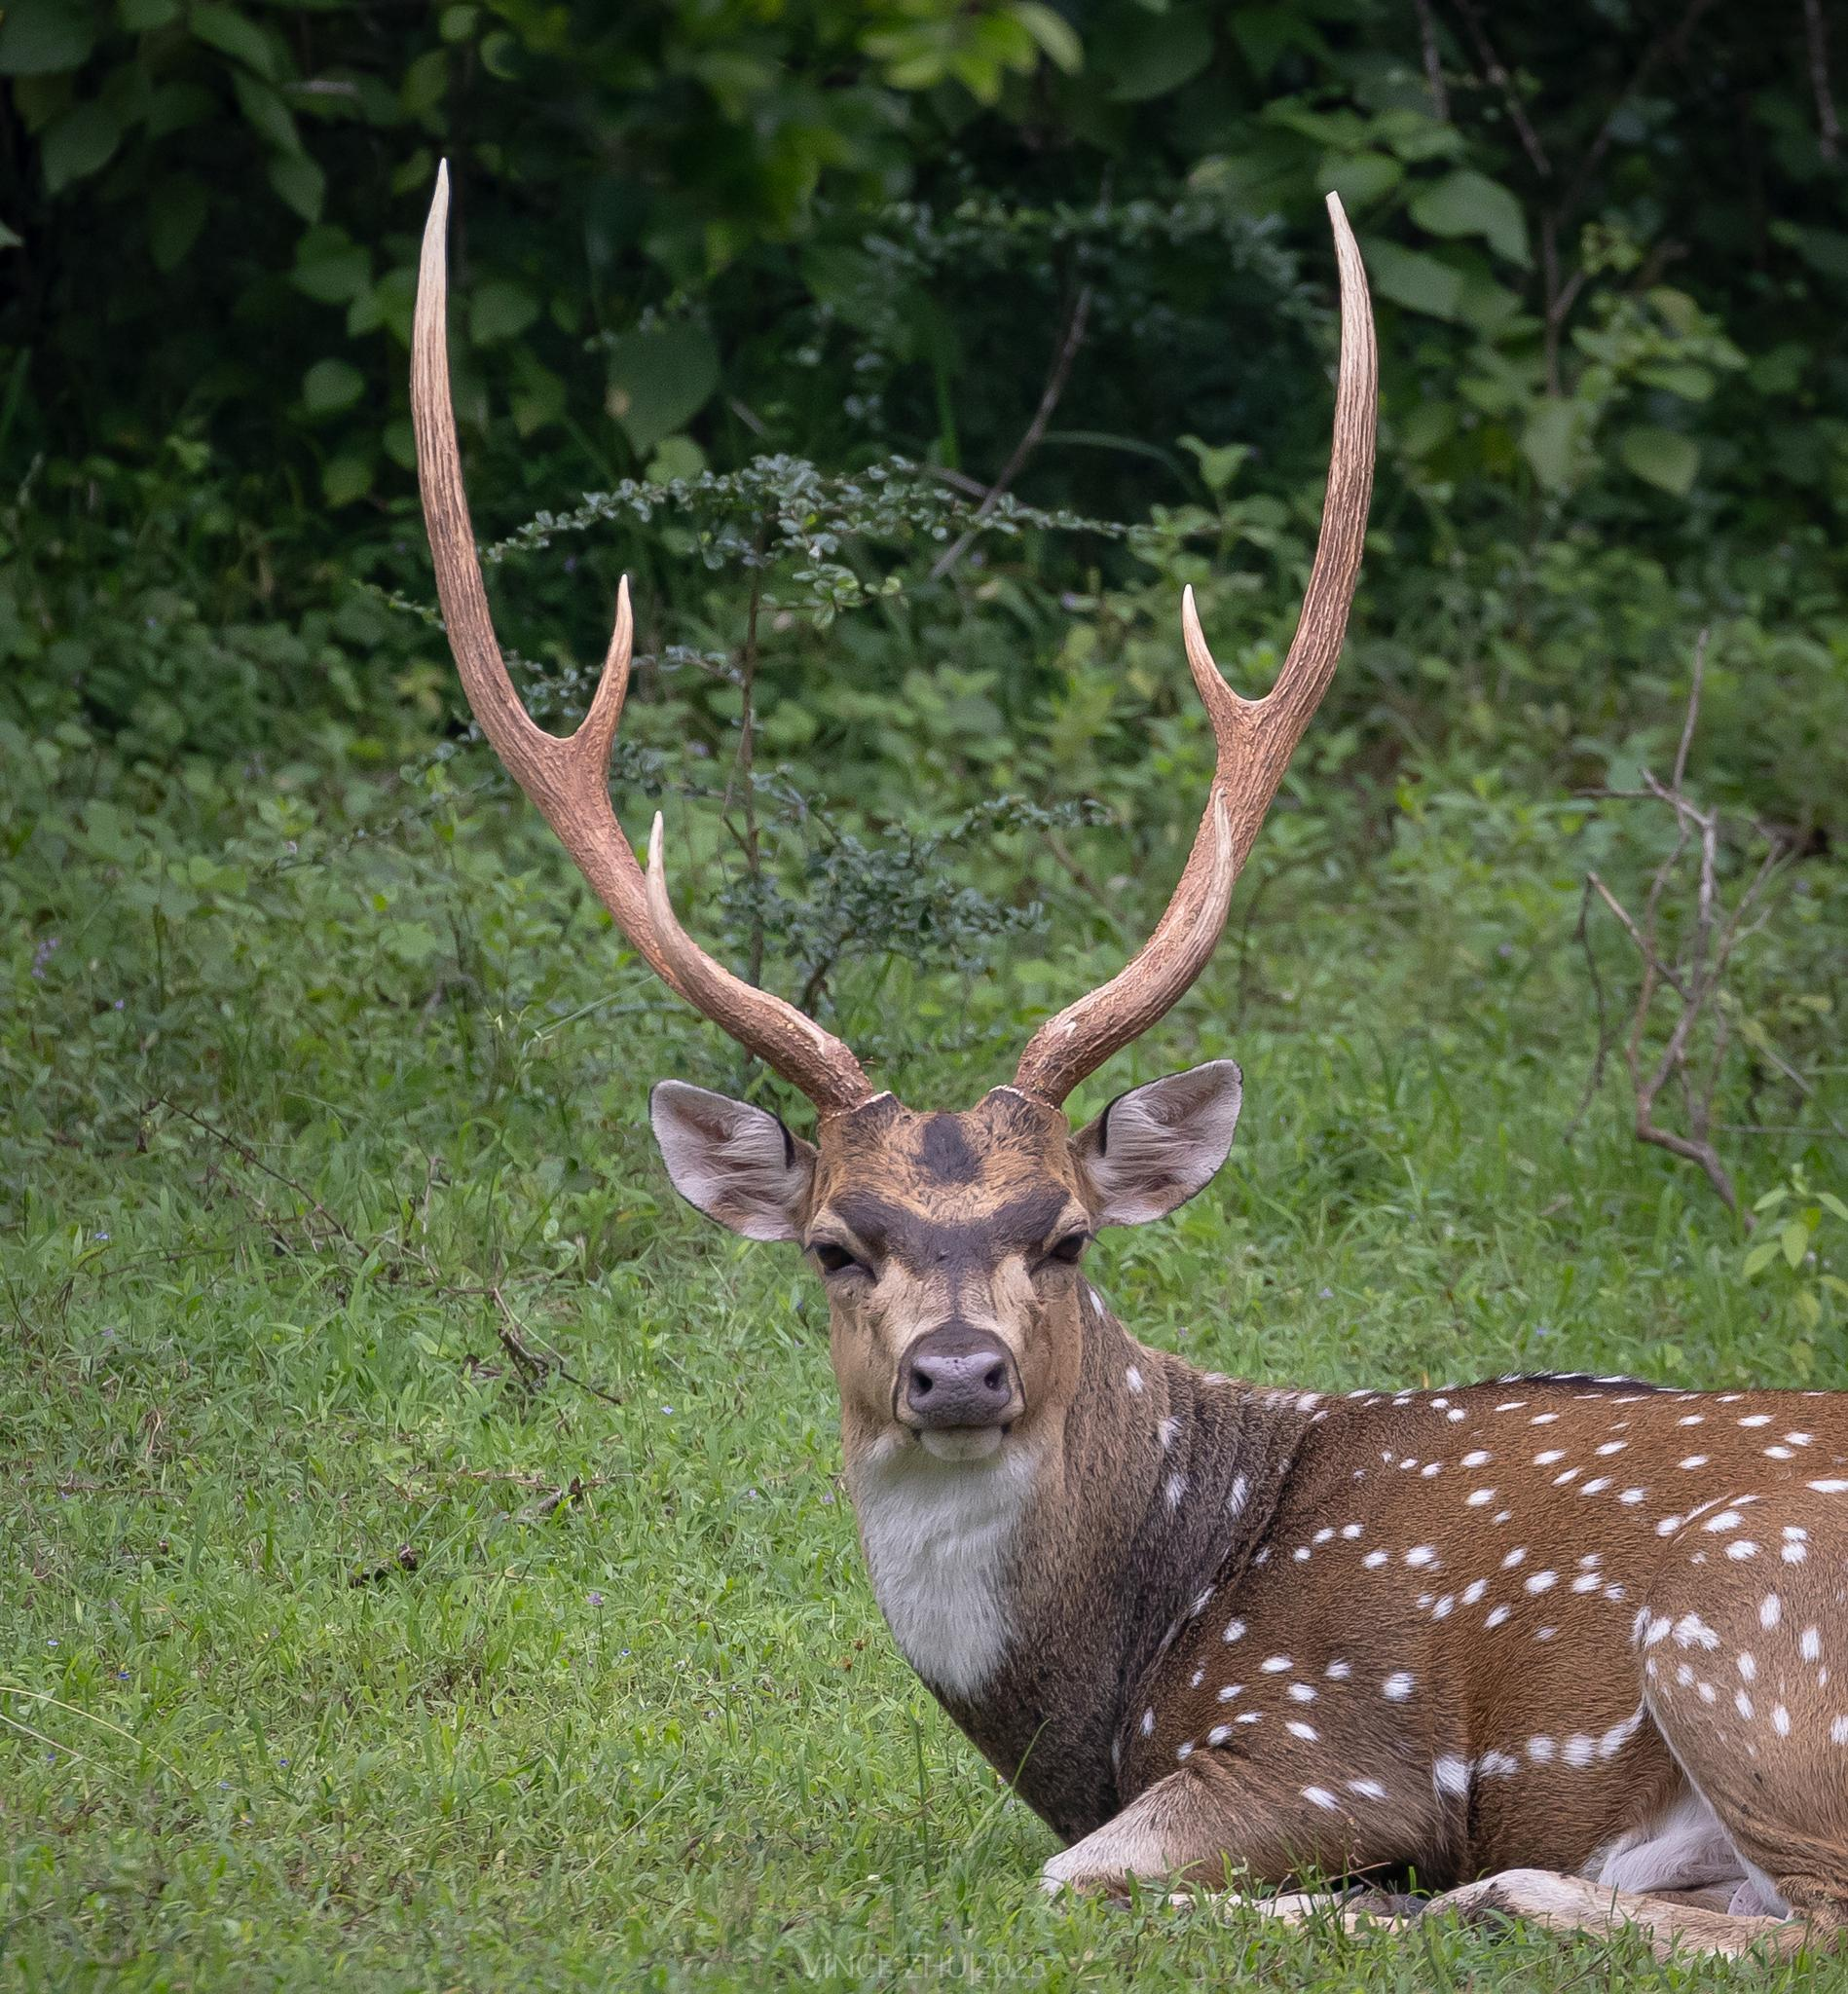Deer: (412, 184, 1846, 1921)
